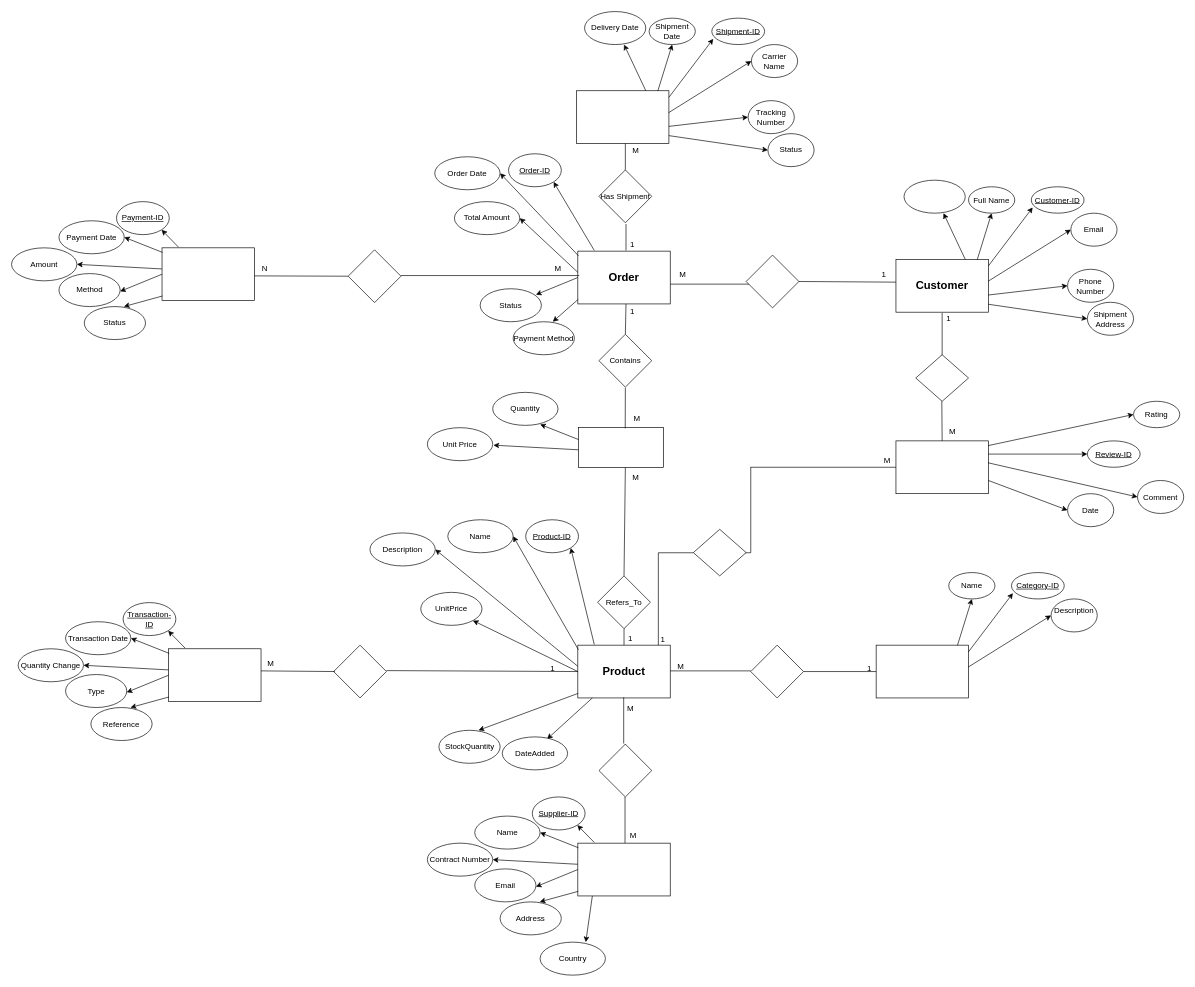
The diagram is 1195 pixels wide and 987 high, and some of its shapes have lost their labels. Here are the shapes that lost their labels. From the top down, the box of each, then its label:
(576, 90, 669, 144): Shipment
(903, 180, 965, 213): RegistrationDate
(161, 247, 254, 301): Payment
(347, 249, 401, 303): Pays- For
(745, 254, 799, 308): Plases
(915, 354, 969, 401): Writes
(578, 427, 664, 468): Order Items
(895, 440, 988, 494): Review
(693, 529, 746, 576): Has-Review
(168, 648, 261, 702): Inventory Transaction
(333, 644, 386, 698): Affects
(750, 644, 804, 698): Belongs to
(875, 644, 969, 698): Category
(598, 743, 652, 797): Supplies
(577, 842, 670, 896): Supplier
